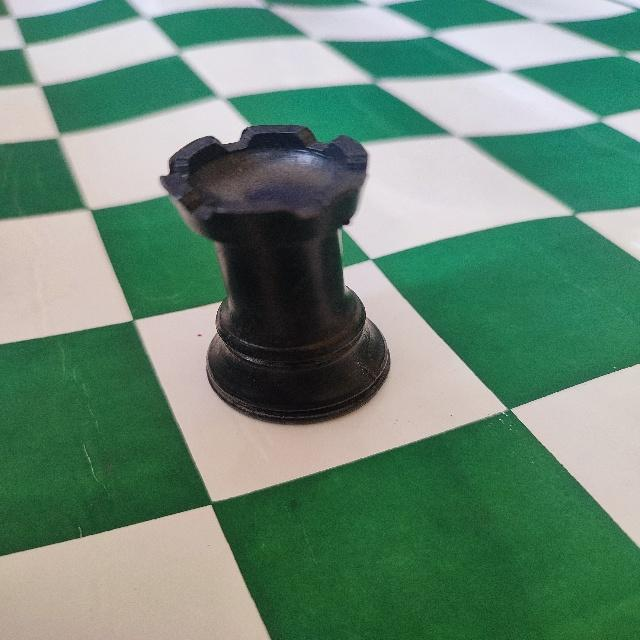Rook: (153, 122, 394, 430)
